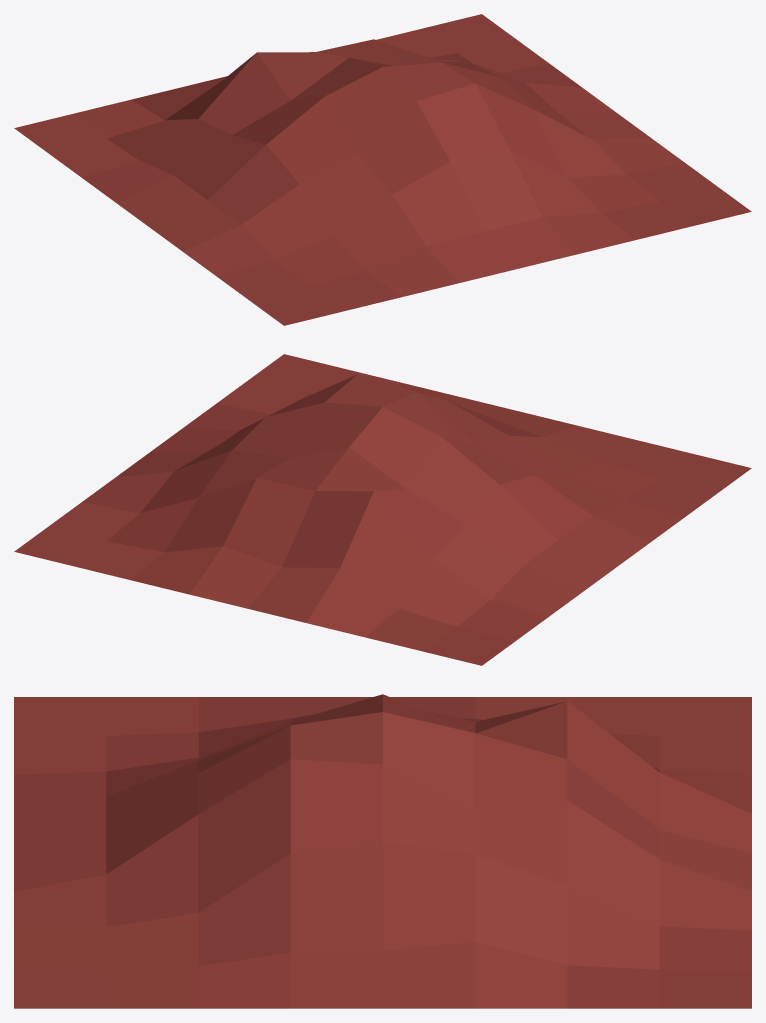
The model's file is Terrain_21_Red.fbx.
3 renders of one model, top to bottom at view 1: azimuth 30°, elevation 25°; view 2: azimuth 150°, elevation 25°; view 3: azimuth 270°, elevation 25°, orthographic. The views are drawn at different scales.
Parts seen in each view (by area): view 1: Terrain_21_Red; view 2: Terrain_21_Red; view 3: Terrain_21_Red.
Part boxes in pixels (left/top/right/bottom): Terrain_21_Red: left=14, top=14, right=751, bottom=325; Terrain_21_Red: left=14, top=354, right=751, bottom=665; Terrain_21_Red: left=14, top=694, right=751, bottom=1008.
Bounding box in the file's own units: 10000 × 2106 × 10000.
